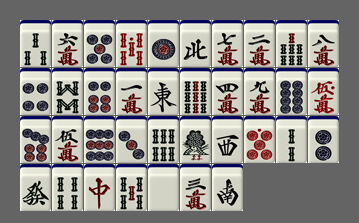0m: (308, 68, 339, 115)
0p: (244, 116, 275, 163)
0s: (116, 20, 147, 67)
1m: (116, 68, 147, 115)
1p: (148, 20, 179, 67)
1s: (180, 116, 211, 163)
1z: (148, 68, 179, 115)
2m: (244, 20, 275, 67)
2p: (308, 116, 339, 163)
2s: (276, 116, 307, 163)
2z: (212, 164, 243, 211)
3m: (180, 164, 211, 211)
3p: (116, 116, 147, 163)
3s: (20, 20, 51, 67)
3z: (212, 116, 243, 163)
4m: (212, 68, 243, 115)
4p: (20, 68, 51, 115)
4s: (52, 164, 83, 211)
4z: (180, 20, 211, 67)
5m: (52, 116, 83, 163)
5p: (84, 20, 115, 67)
5s: (116, 164, 147, 211)
5z: (148, 164, 179, 211)
6m: (52, 20, 83, 67)
6p: (84, 68, 115, 115)
6s: (148, 116, 179, 163)
6z: (20, 164, 51, 211)
7m: (212, 20, 243, 67)
7p: (20, 116, 51, 163)
7s: (276, 20, 307, 67)
7z: (84, 164, 115, 211)
8m: (308, 20, 339, 67)
8p: (276, 68, 307, 115)
8s: (52, 68, 83, 115)
9m: (244, 68, 275, 115)
9p: (84, 116, 115, 163)
9s: (180, 68, 211, 115)
